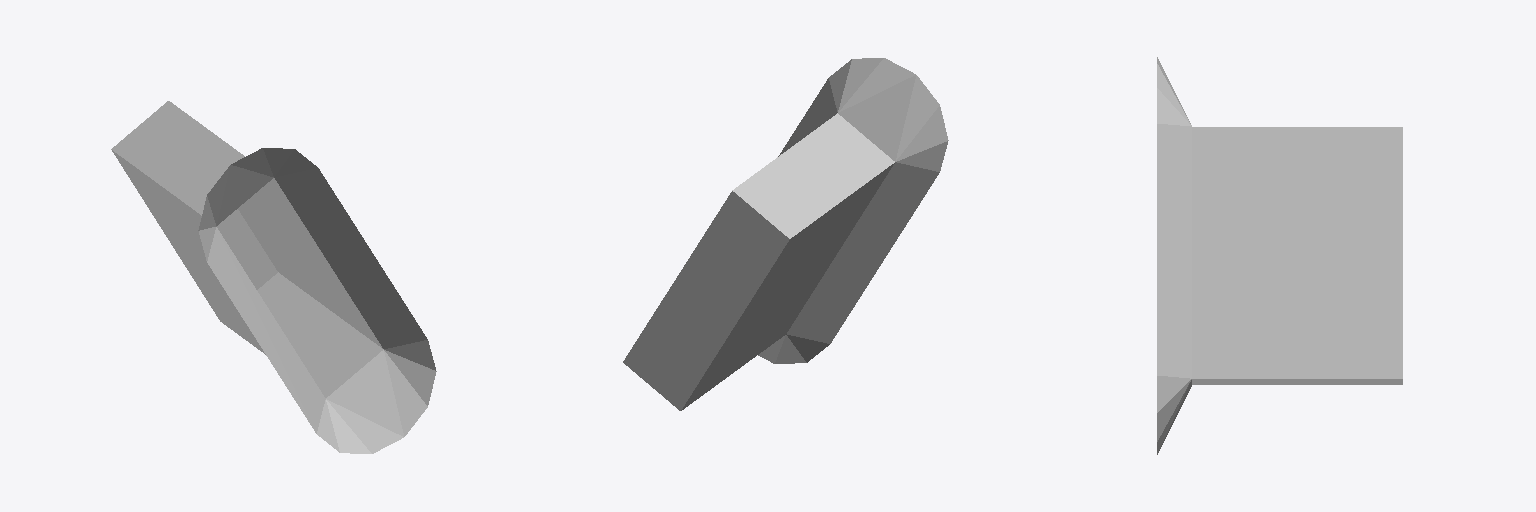
Rendered from original-2.obj.
3 views of the same model, side by side, from view 1: azimuth 30°, elevation 25°; view 2: azimuth 150°, elevation 25°; view 3: azimuth 270°, elevation 25° (orthographic).
Parts seen in each view (by area): view 1: #ID39; view 2: #ID39; view 3: #ID39.
Boxes of the visible parts, x1=… form: #ID39: x1=111, y1=101, x2=436, y2=453; #ID39: x1=623, y1=58, x2=948, y2=410; #ID39: x1=1157, y1=57, x2=1402, y2=454.
Size of the model in its own units: 0.1092 by 0.146 by 0.0977.